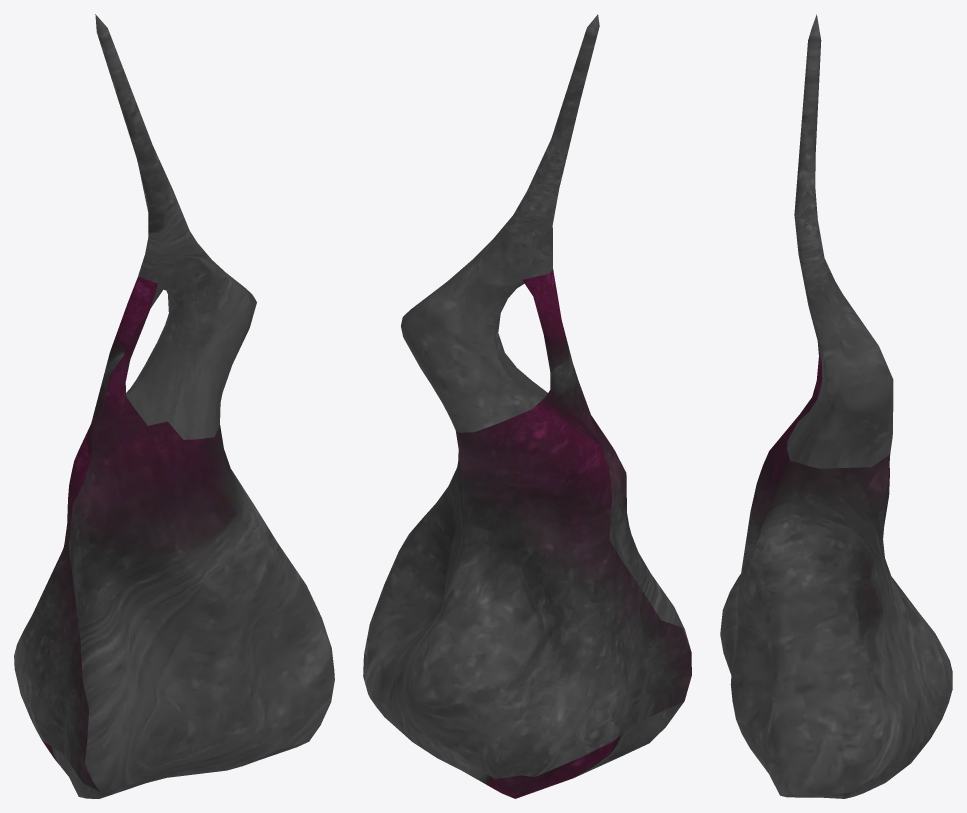
3 renders of one model, left to right at view 1: azimuth 30°, elevation 25°; view 2: azimuth 150°, elevation 25°; view 3: azimuth 270°, elevation 25°, orthographic. The views are drawn at different scales.
Visible parts, largest first — view 1: SM_WitherSpine_Med_LOD0; view 2: SM_WitherSpine_Med_LOD0; view 3: SM_WitherSpine_Med_LOD0.
Boxes of the visible parts, x1,y1,x2,y2 form: SM_WitherSpine_Med_LOD0: (14, 14, 334, 798); SM_WitherSpine_Med_LOD0: (363, 14, 691, 798); SM_WitherSpine_Med_LOD0: (720, 14, 952, 798).
Bounding box in the file's own units: 1.72 × 4.65 × 1.37.
